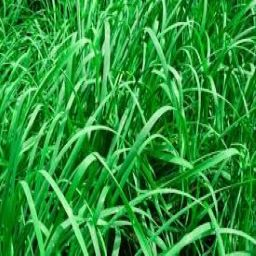grass: (2, 3, 252, 252)
